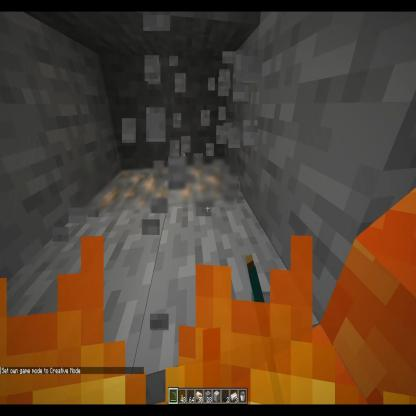iron ore: (82, 161, 176, 213), (168, 156, 237, 207)
